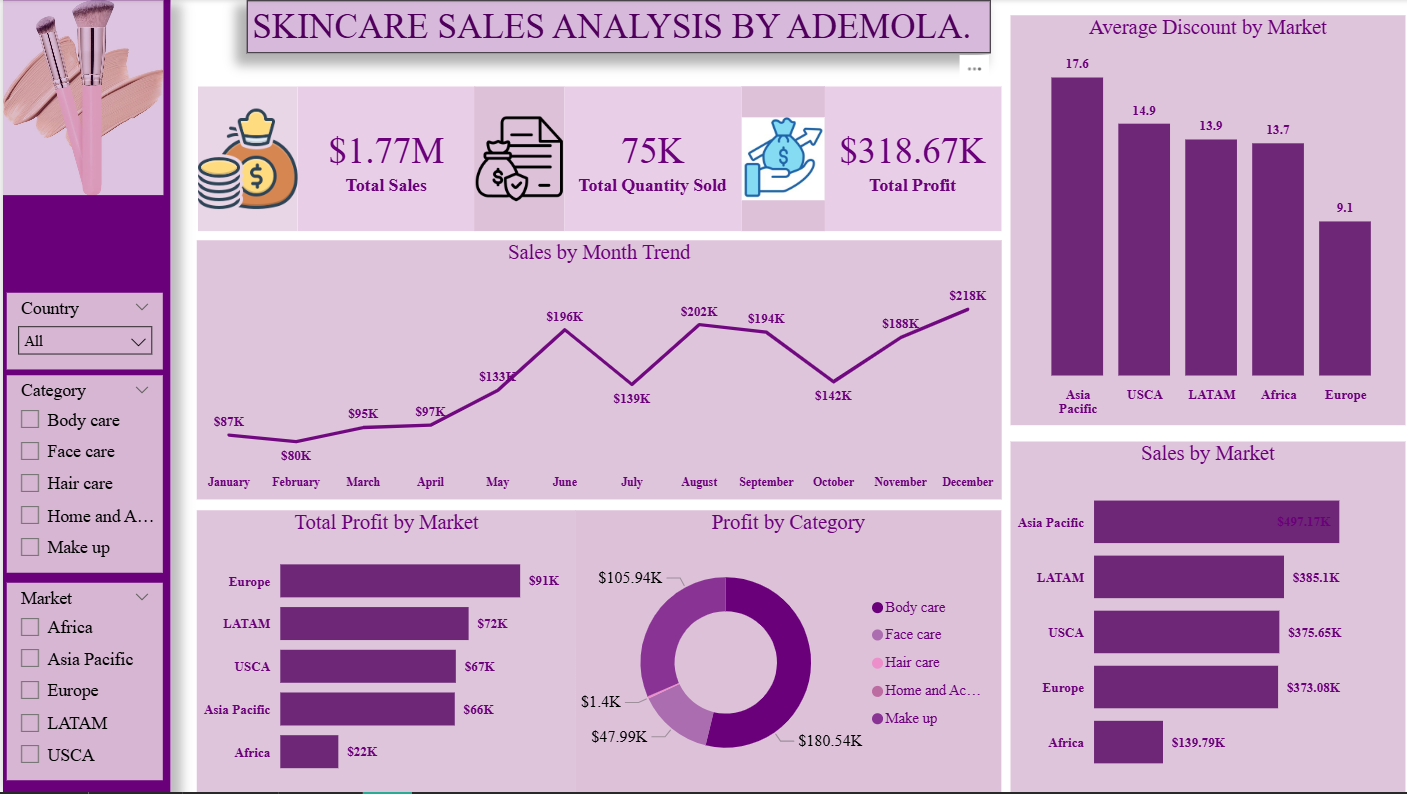

The dashboard page shown, as its layout file describes it:
{"tool":"powerbi","page":{"name":"Page 1","canvas":[1280,720],"ordinal":0},"visuals":[{"type":"shape","box":[0,0,152.3,719.8],"z":0},{"type":"lineChart","title":"Sales by Month Trend","fields":{"Category":["Skin_Care Target.Month Name"],"Y":["Sum(Skin_Care Target.Sales)"]},"box":[175.6,218.6,730.2,234.9],"z":1000},{"type":"card","fields":{"Values":["Sum(Skin_Care Target.Sales)"]},"box":[267.4,79.1,160.5,131.4],"z":2000},{"type":"card","fields":{"Values":["Sum(Skin_Care Target.Profit)"]},"box":[745.4,79.1,160.5,131.4],"z":3000},{"type":"card","fields":{"Values":["Sum(Skin_Care Target.Quantity)"]},"box":[509.3,79.1,160.5,131.4],"z":4000},{"type":"clusteredBarChart","title":"Sales by Market","fields":{"Category":["Skin_Care Target.Market"],"Y":["Sum(Skin_Care Target.Sales)"]},"box":[914,401.2,358.1,318.6],"z":5000},{"type":"clusteredBarChart","title":"Total Profit by Market","fields":{"Category":["Skin_Care Target.Market"],"Y":["Sum(Skin_Care Target.Profit)"]},"box":[175.6,464,344.2,255.8],"z":6000},{"type":"textbox","box":[220.9,1.2,675.6,48.8],"z":7000},{"type":"slicer","fields":{"Values":["Skin_Care Target.Market"]},"box":[3.5,530.2,141.9,179.1],"z":8000},{"type":"clusteredColumnChart","title":"Average Discount by Market","fields":{"Category":["Skin_Care Target.Market"],"Y":["Avg(Skin_Care Target.Discount)"]},"box":[914,15.1,358.1,372.1],"z":9000},{"type":"slicer","fields":{"Values":["Skin_Care Target.Category"]},"box":[3.5,341.9,141.9,179.1],"z":10000},{"type":"image","box":[0,1.2,145.3,176.7],"z":11000},{"type":"slicer","fields":{"Values":["Skin_Care Target.Country"]},"box":[3.5,266.3,141.9,69.8],"z":12000},{"type":"donutChart","title":"Profit by Category","fields":{"Series":["Skin_Care Target.Category"],"Y":["Sum(Skin_Care Target.Profit)"]},"box":[519.8,464,386,255.8],"z":13000},{"type":"image","box":[176.7,79.1,90.7,131.4],"z":14000},{"type":"image","box":[427.9,79.1,81.4,131.4],"z":15000},{"type":"image","box":[669.8,79.1,75.6,131.4],"z":16000}]}

Visuals, with their boxes in screenshot pixels (x1, y1, x2, y2), scaled from the page's 1280x720 canvas onto the 1407x794 screenshot:
shape: x1=0, y1=0, x2=167, y2=793
"Sales by Month Trend" lineChart: x1=193, y1=241, x2=996, y2=500
card - Sum(Skin_Care Target.Sales): x1=294, y1=87, x2=470, y2=232
card - Sum(Skin_Care Target.Profit): x1=819, y1=87, x2=996, y2=232
card - Sum(Skin_Care Target.Quantity): x1=560, y1=87, x2=736, y2=232
"Sales by Market" clusteredBarChart: x1=1005, y1=442, x2=1398, y2=793
"Total Profit by Market" clusteredBarChart: x1=193, y1=512, x2=571, y2=793
textbox: x1=243, y1=1, x2=985, y2=55
slicer - Skin_Care Target.Market: x1=4, y1=585, x2=160, y2=782
"Average Discount by Market" clusteredColumnChart: x1=1005, y1=17, x2=1398, y2=427
slicer - Skin_Care Target.Category: x1=4, y1=377, x2=160, y2=575
image: x1=0, y1=1, x2=160, y2=196
slicer - Skin_Care Target.Country: x1=4, y1=294, x2=160, y2=371
"Profit by Category" donutChart: x1=571, y1=512, x2=996, y2=793
image: x1=194, y1=87, x2=294, y2=232
image: x1=470, y1=87, x2=560, y2=232
image: x1=736, y1=87, x2=819, y2=232
